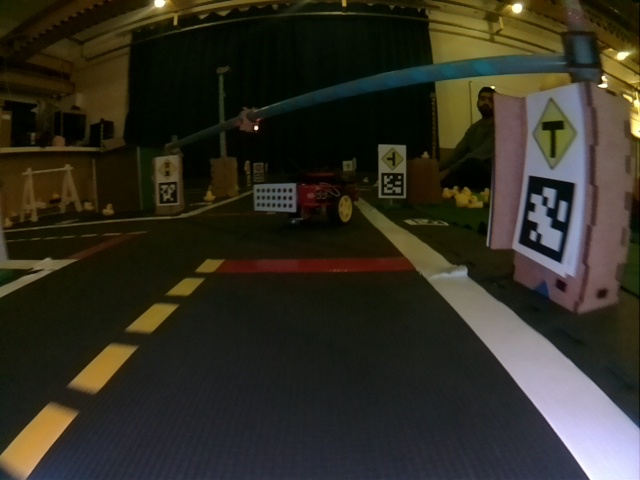Duckie: (468, 196, 483, 208), (456, 194, 467, 207), (102, 204, 114, 215), (442, 188, 451, 198), (204, 192, 214, 200), (451, 186, 459, 195), (422, 151, 430, 159)
Duckiebot: (253, 174, 356, 224)
Intersection sign: (527, 93, 581, 170), (379, 146, 405, 169)
QR code: (519, 172, 575, 268), (379, 173, 403, 198), (157, 183, 178, 205), (406, 218, 447, 225)
Signal sign: (156, 157, 178, 178)
Traffic light: (240, 110, 259, 133)
